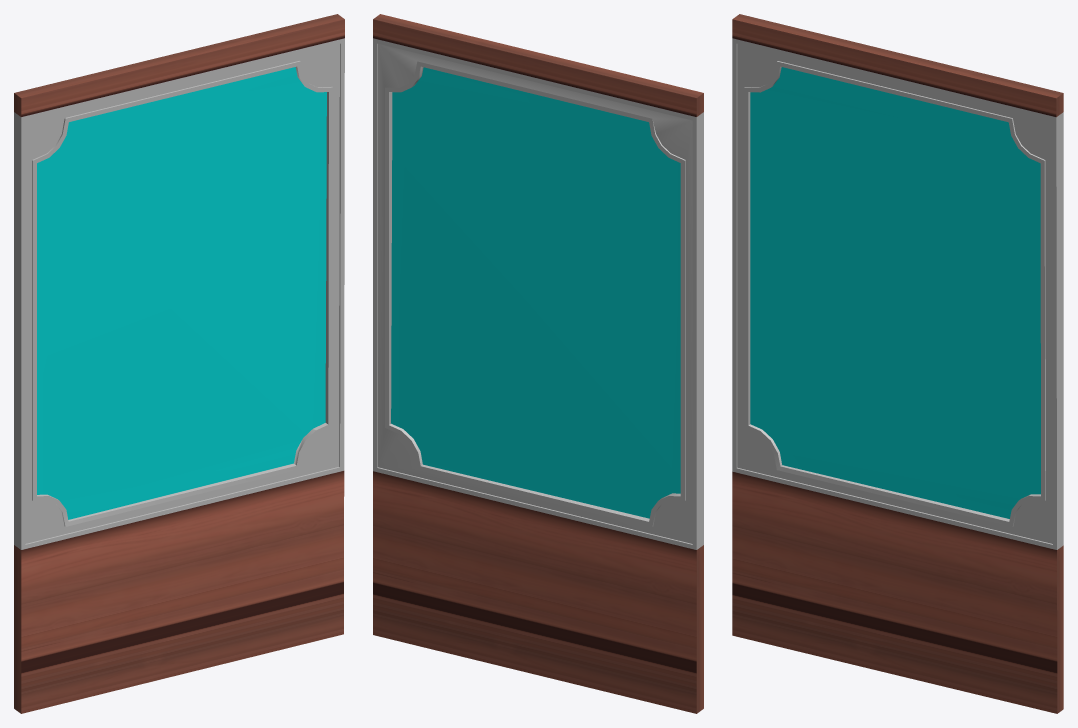
File: Window_V03.fbx
3 renders of one model, left to right at view 1: azimuth 30°, elevation 25°; view 2: azimuth 150°, elevation 25°; view 3: azimuth 330°, elevation 25°, orthographic.
Visible parts, largest first — view 1: WIndow; view 2: WIndow; view 3: WIndow.
Boxes of the visible parts, bbox=[...] form: WIndow: bbox=[14, 14, 344, 713]; WIndow: bbox=[373, 14, 703, 713]; WIndow: bbox=[732, 14, 1063, 713].
Bounding box in the file's own units: 110 × 200 × 4.25.
